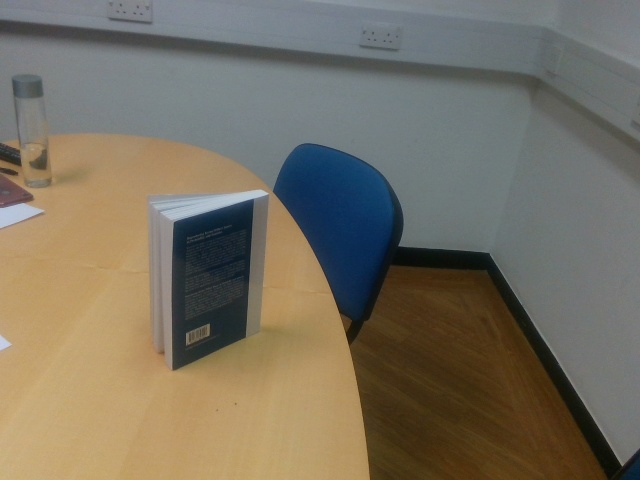book: (146, 189, 270, 371)
